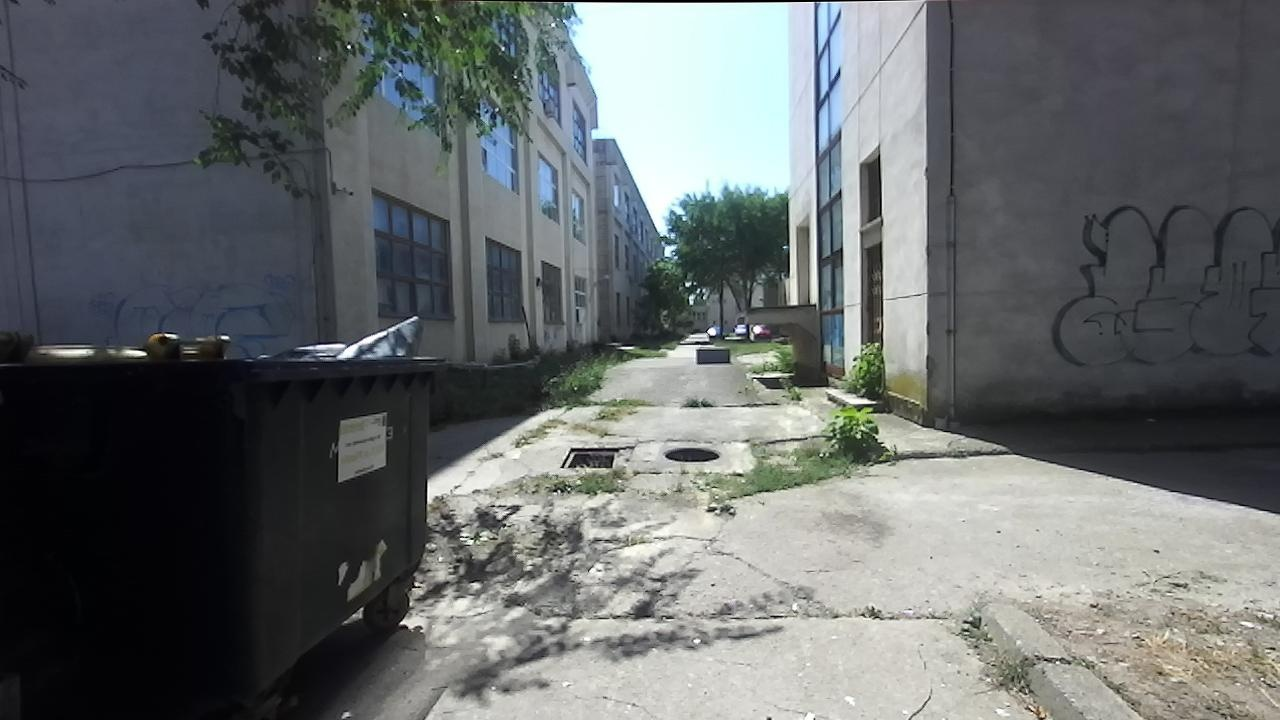drain: (554, 439, 625, 474), (656, 440, 725, 465)
